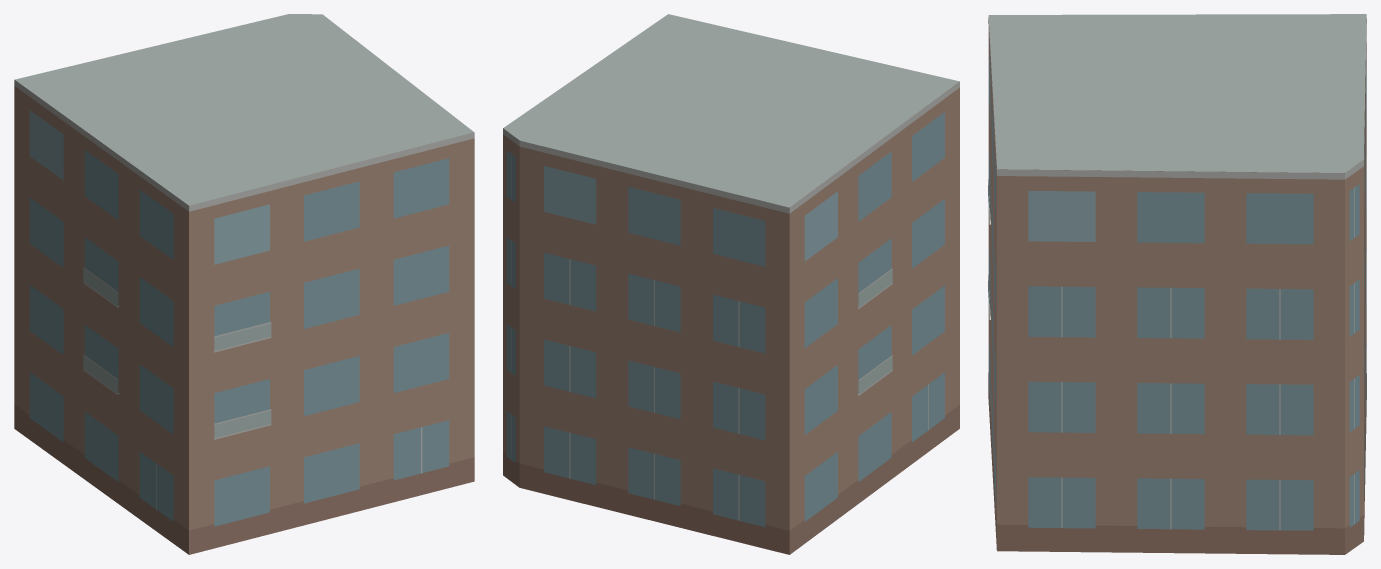
Rendered from survey-upis-32495615.glb.
3 views of the same model, side by side, from view 1: azimuth 30°, elevation 25°; view 2: azimuth 150°, elevation 25°; view 3: azimuth 270°, elevation 25° (orthographic). The views are drawn at different scales.
Visible parts, largest first — view 1: survey-upis-32495615.tmp; view 2: survey-upis-32495615.tmp; view 3: survey-upis-32495615.tmp.
Boxes of the visible parts, left/top/right/bottom form: survey-upis-32495615.tmp: left=14, top=14, right=474, bottom=554; survey-upis-32495615.tmp: left=503, top=14, right=959, bottom=554; survey-upis-32495615.tmp: left=988, top=14, right=1366, bottom=554.
Size of the model in its own units: 12.61 by 14.1 by 12.68.
